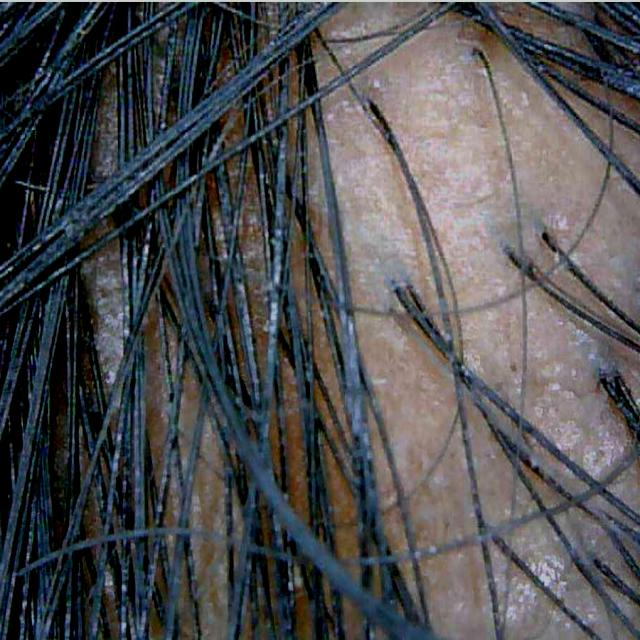ds: (80, 239, 124, 396), (88, 63, 118, 188), (531, 382, 583, 420), (547, 411, 585, 459), (584, 435, 625, 477)
o: (503, 577, 544, 626), (531, 555, 568, 598)
